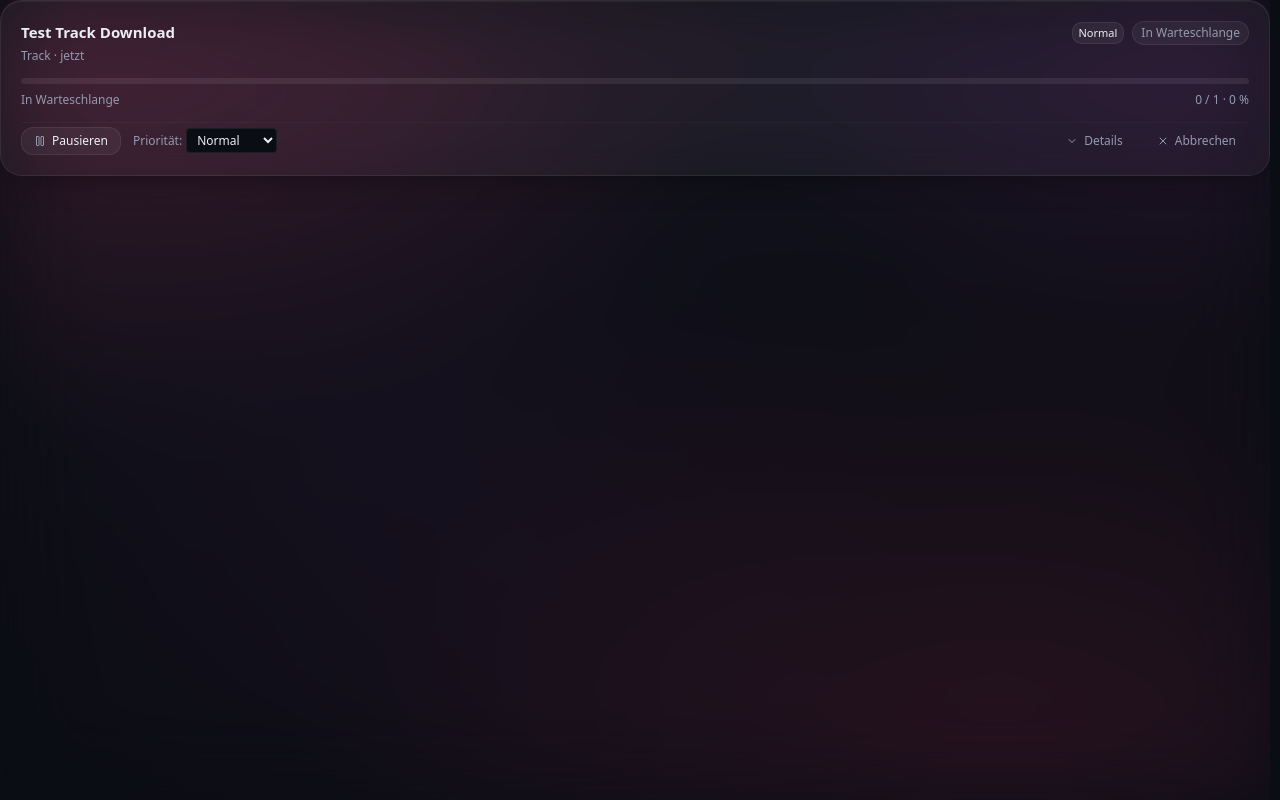
Scenario: JobCard – Failed Job Error Presentation › allows a failed detail request to be loaded again without changing the job
This screenshot has width=1280, height=800.
Step 1. Click the button "Details" → {"x": 1094, "y": 140}, box [1053, 126, 1136, 154]
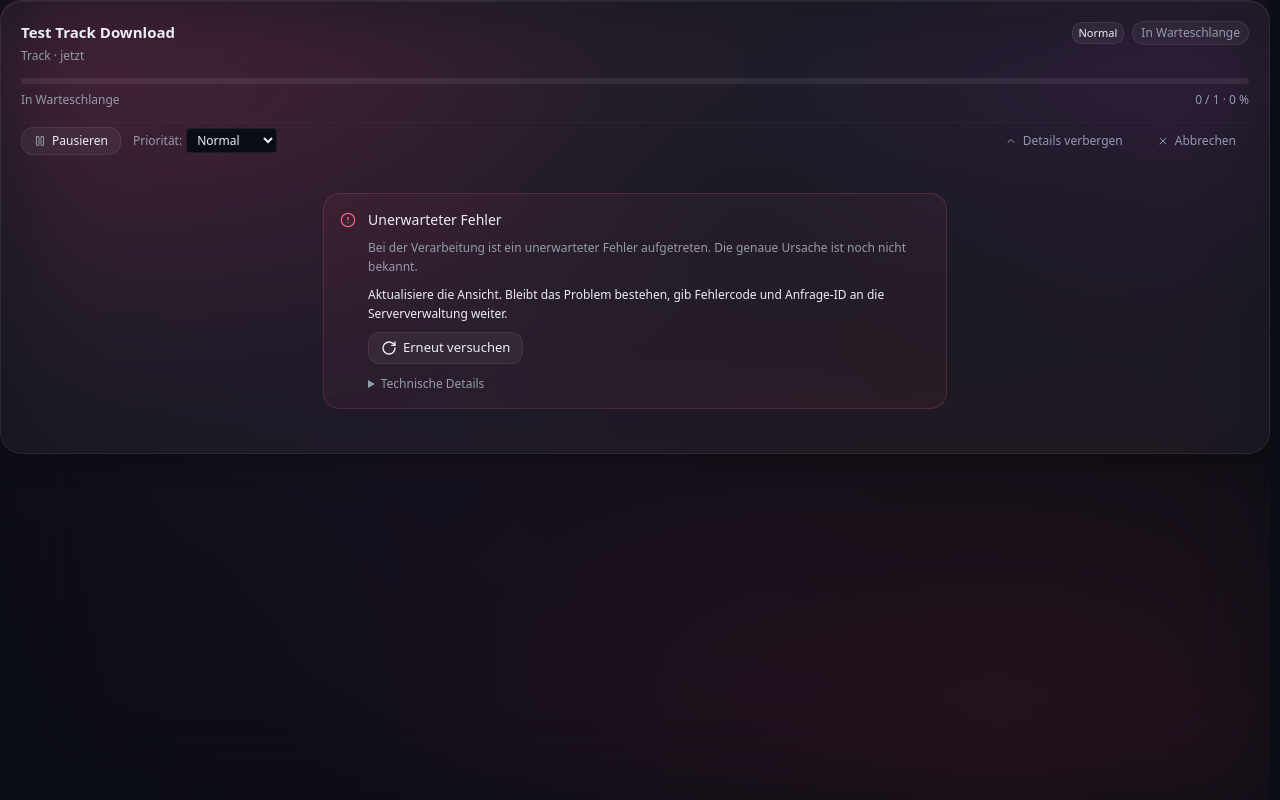
Expected: the text "Unerwarteter Fehler" is shown, [368, 210, 502, 228]
Step 2. Click the button "Erneut versuchen" → {"x": 446, "y": 348}, box [368, 332, 523, 364]
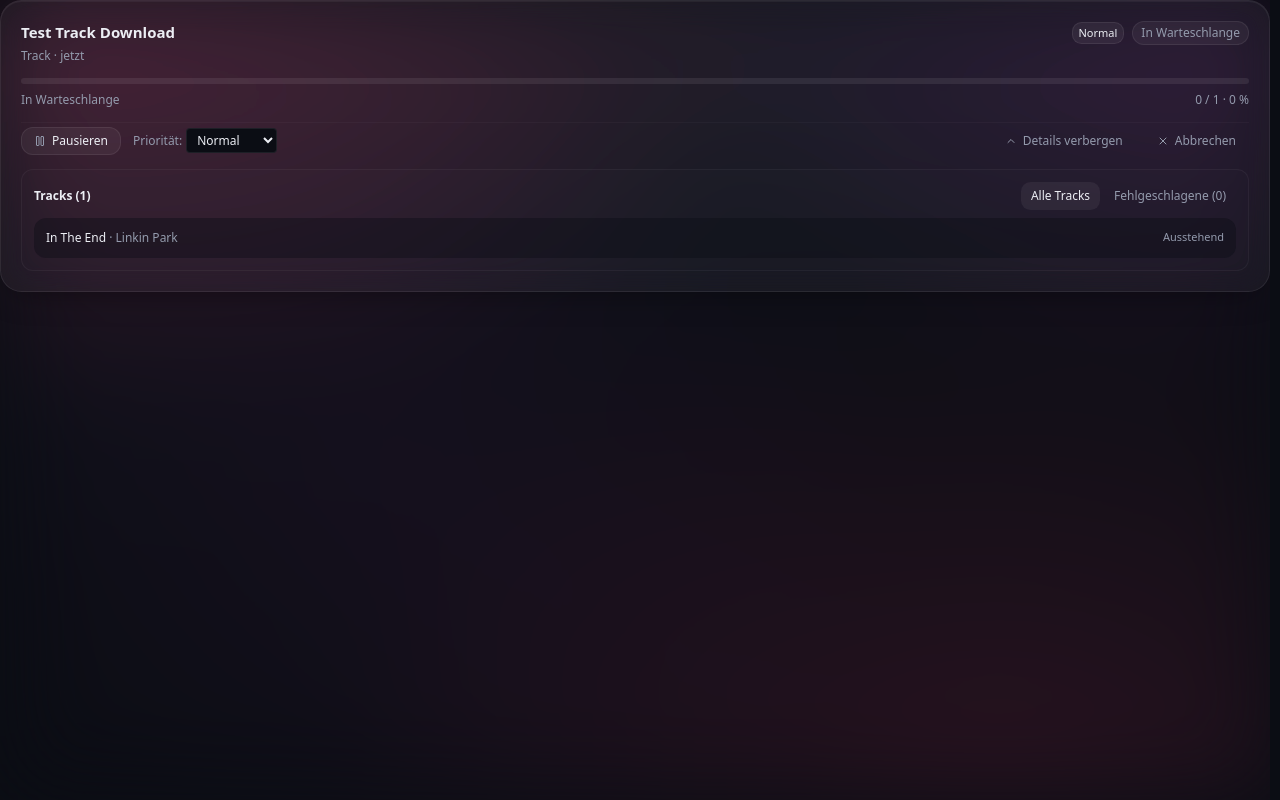
Expected: the text "In The End" is shown, [46, 228, 106, 246]
